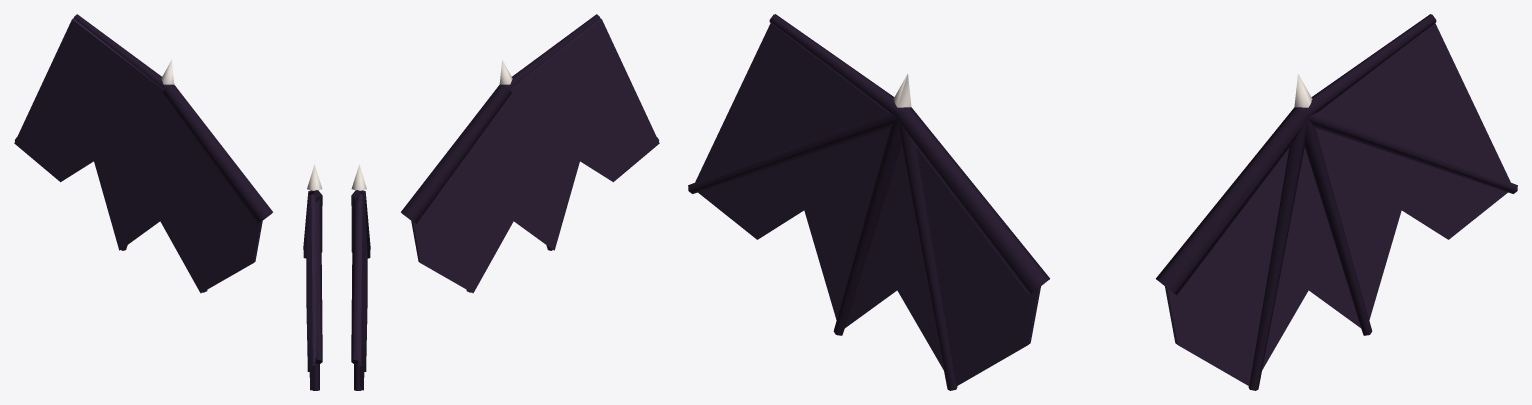
Rendered from back_bat_wings.glb.
3 views of the same model, side by side, from view 1: azimuth 30°, elevation 25°; view 2: azimuth 150°, elevation 25°; view 3: azimuth 270°, elevation 25° (orthographic). The views are drawn at different scales.
Visible parts, largest first — view 1: Wing_L, Wing_R; view 2: Wing_R, Wing_L; view 3: Wing_L, Wing_R.
Boxes of the visible parts, x1,y1,x2,y2 form: Wing_L: (14,14,272,293); Wing_R: (303,164,322,390); Wing_R: (401,14,659,293); Wing_L: (351,164,370,390); Wing_L: (1156,14,1517,390); Wing_R: (688,14,1049,390).
Bounding box in the file's own units: 0.3534 × 0.6212 × 1.4.
